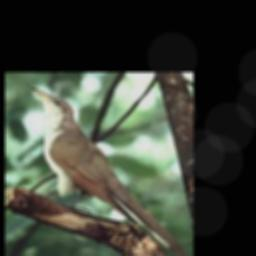Cuckoo: (32, 88, 188, 256)
